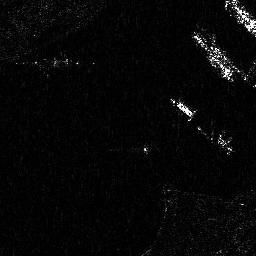ship: (190, 31, 235, 83), (223, 1, 256, 37), (169, 97, 195, 119)
